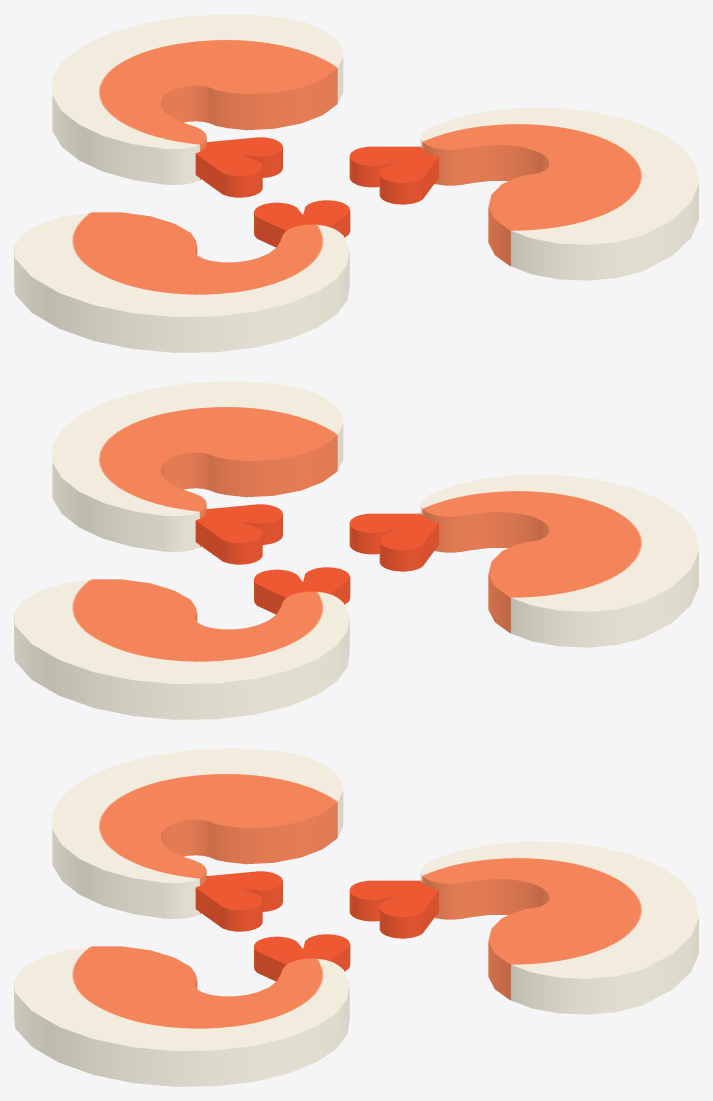
The model's file is Shrimp_Slice_Shrimp_0.glb.
The picture shows the model from 3 angles, top to bottom: view 1: azimuth 30°, elevation 25°; view 2: azimuth 150°, elevation 25°; view 3: azimuth 270°, elevation 25°; orthographic projection.
Visible parts, largest first — view 1: Shrimp_Slice_Shrimp_0; view 2: Shrimp_Slice_Shrimp_0; view 3: Shrimp_Slice_Shrimp_0.
Part boxes in pixels (box(x1,y1,x2,y2)): Shrimp_Slice_Shrimp_0: box(14, 14, 698, 352); Shrimp_Slice_Shrimp_0: box(14, 381, 698, 719); Shrimp_Slice_Shrimp_0: box(14, 748, 698, 1086).
Bounding box in the file's own units: 0.1814 × 0.01 × 0.1734.
Materials: 1 (1 with a texture image).
